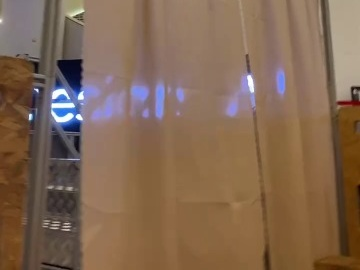curtain: (61, 0, 338, 270)
